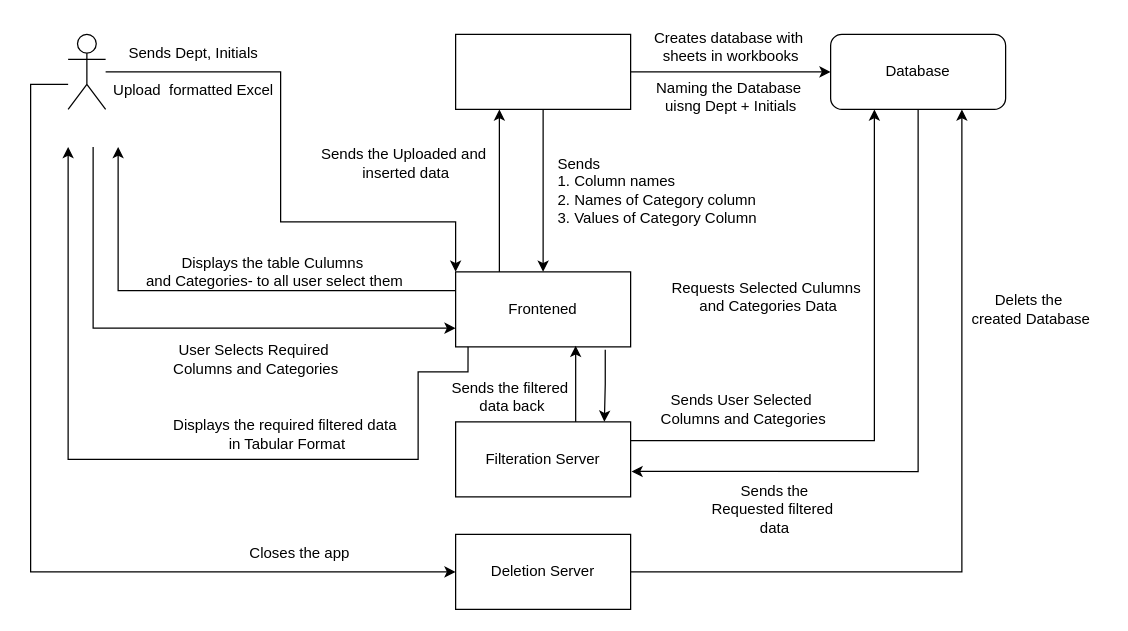
Image size: 1128x631. Some labels were removed from this diagram. The centre of each missing label's shape, as x and y in pixels:
"Creation Server" belongs at point 542,71.
"User/ Faculty" belongs at point 86,71.
